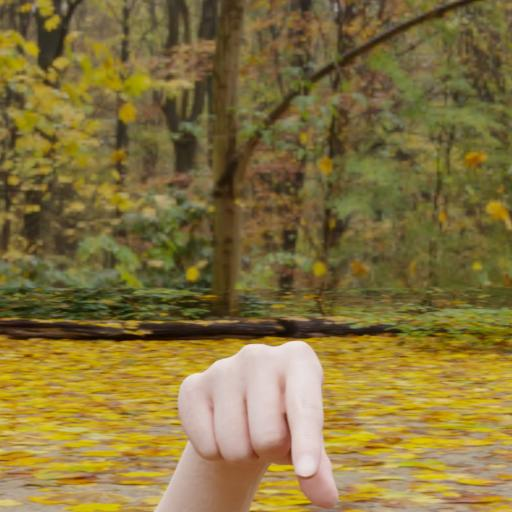Q: (166, 327, 349, 512)
